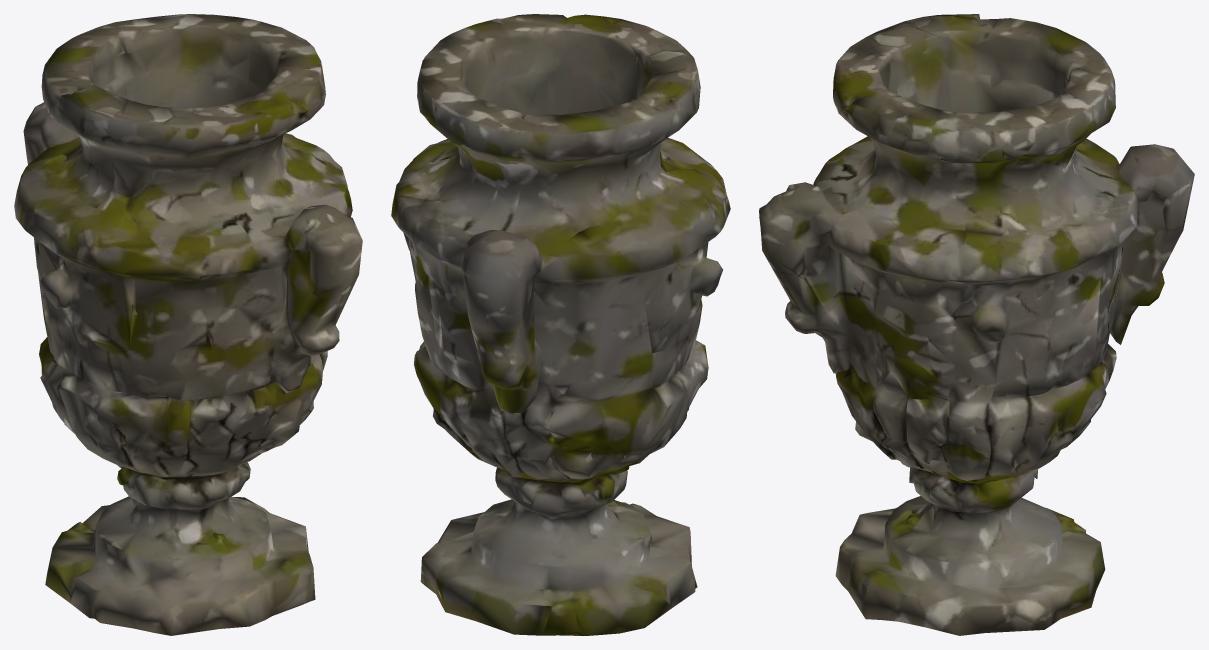
Rendered from ruin_urn.glb.
The picture shows the model from 3 angles, left to right: view 1: azimuth 30°, elevation 25°; view 2: azimuth 150°, elevation 25°; view 3: azimuth 270°, elevation 25°; orthographic projection.
Visible parts, largest first — view 1: tripo_node_e05e107e-7d75-4e0e-bb49-8f7ace831aa8; view 2: tripo_node_e05e107e-7d75-4e0e-bb49-8f7ace831aa8; view 3: tripo_node_e05e107e-7d75-4e0e-bb49-8f7ace831aa8.
Boxes of the visible parts, left/top/right/bottom form: tripo_node_e05e107e-7d75-4e0e-bb49-8f7ace831aa8: left=14, top=14, right=362, bottom=635; tripo_node_e05e107e-7d75-4e0e-bb49-8f7ace831aa8: left=391, top=14, right=730, bottom=635; tripo_node_e05e107e-7d75-4e0e-bb49-8f7ace831aa8: left=759, top=14, right=1194, bottom=635.
Bounding box in the file's own units: 0.5984 × 0.9983 × 0.7661.
Materials: 1 (1 with a texture image).
